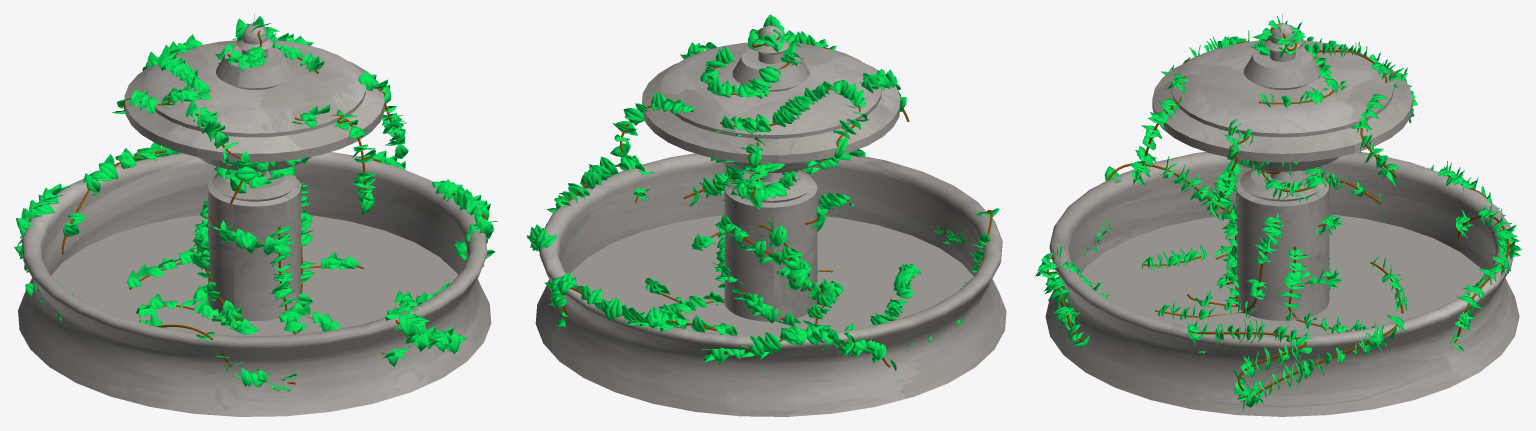
File: Fountain.fbx
3 renders of one model, left to right at view 1: azimuth 30°, elevation 25°; view 2: azimuth 150°, elevation 25°; view 3: azimuth 270°, elevation 25°, orthographic.
Parts seen in each view (by area): view 1: Fountain_Base, Fountain_Top, Leafs, Vine; view 2: Fountain_Base, Fountain_Top, Leafs, Vine; view 3: Fountain_Base, Fountain_Top, Leafs, Vine.
Boxes of the visible parts, bbox=[...] form: Fountain_Base: bbox=[18, 152, 491, 416]; Fountain_Top: bbox=[124, 14, 384, 320]; Leafs: bbox=[14, 16, 497, 391]; Vine: bbox=[28, 26, 486, 384]; Fountain_Base: bbox=[535, 153, 1006, 416]; Fountain_Top: bbox=[642, 16, 900, 321]; Leafs: bbox=[526, 14, 999, 370]; Vine: bbox=[558, 29, 992, 367]; Fountain_Base: bbox=[1045, 152, 1519, 416]; Fountain_Top: bbox=[1152, 14, 1412, 320]; Leafs: bbox=[1035, 16, 1521, 411]; Vine: bbox=[1046, 27, 1509, 398].
Size of the model in its own units: 416 by 287 by 414.
